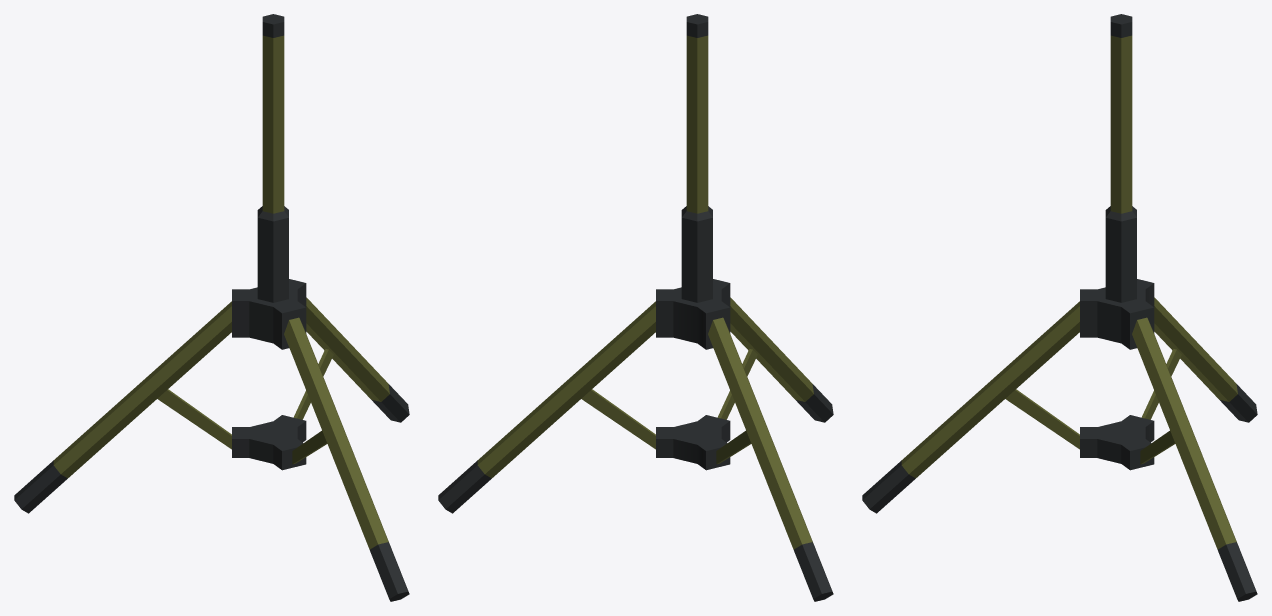
File: SM_Prop_Light_Portable_01.glb
3 renders of one model, left to right at view 1: azimuth 30°, elevation 25°; view 2: azimuth 150°, elevation 25°; view 3: azimuth 270°, elevation 25°, orthographic.
Parts seen in each view (by area): view 1: SM_Prop_Light_Portable_01; view 2: SM_Prop_Light_Portable_01; view 3: SM_Prop_Light_Portable_01.
Boxes of the visible parts, <box> form: SM_Prop_Light_Portable_01: <box>14,14,409,601</box>; SM_Prop_Light_Portable_01: <box>438,14,833,601</box>; SM_Prop_Light_Portable_01: <box>862,14,1257,601</box>.
Size of the model in its own units: 0.9979 by 1.19 by 0.8676.
Materials: 1 (1 with a texture image).
